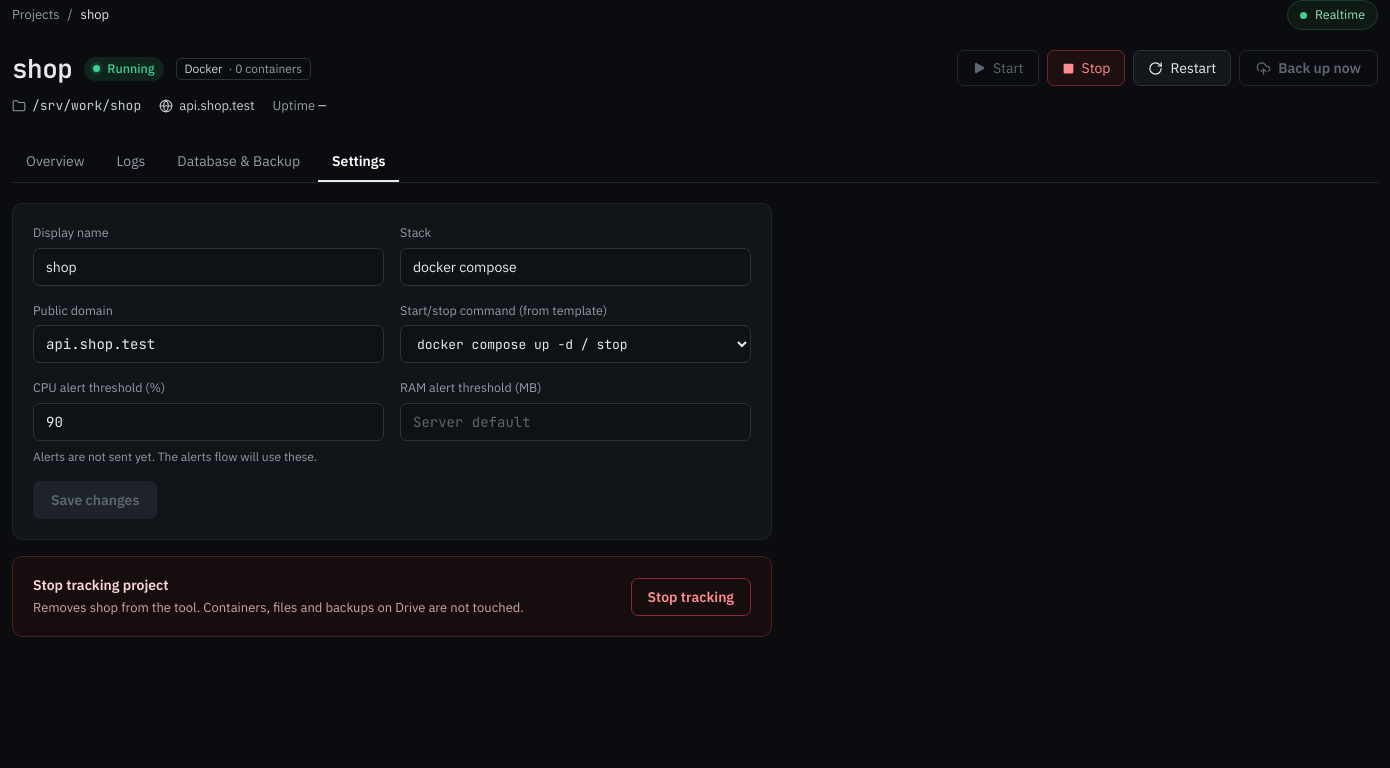
Test: settings tab › saves and toasts
This screenshot has width=1390, height=768.
Replace the text in the field labelled "Display name" with "shop-api" at (208, 266), box x1=33 y1=248 x2=384 y2=286
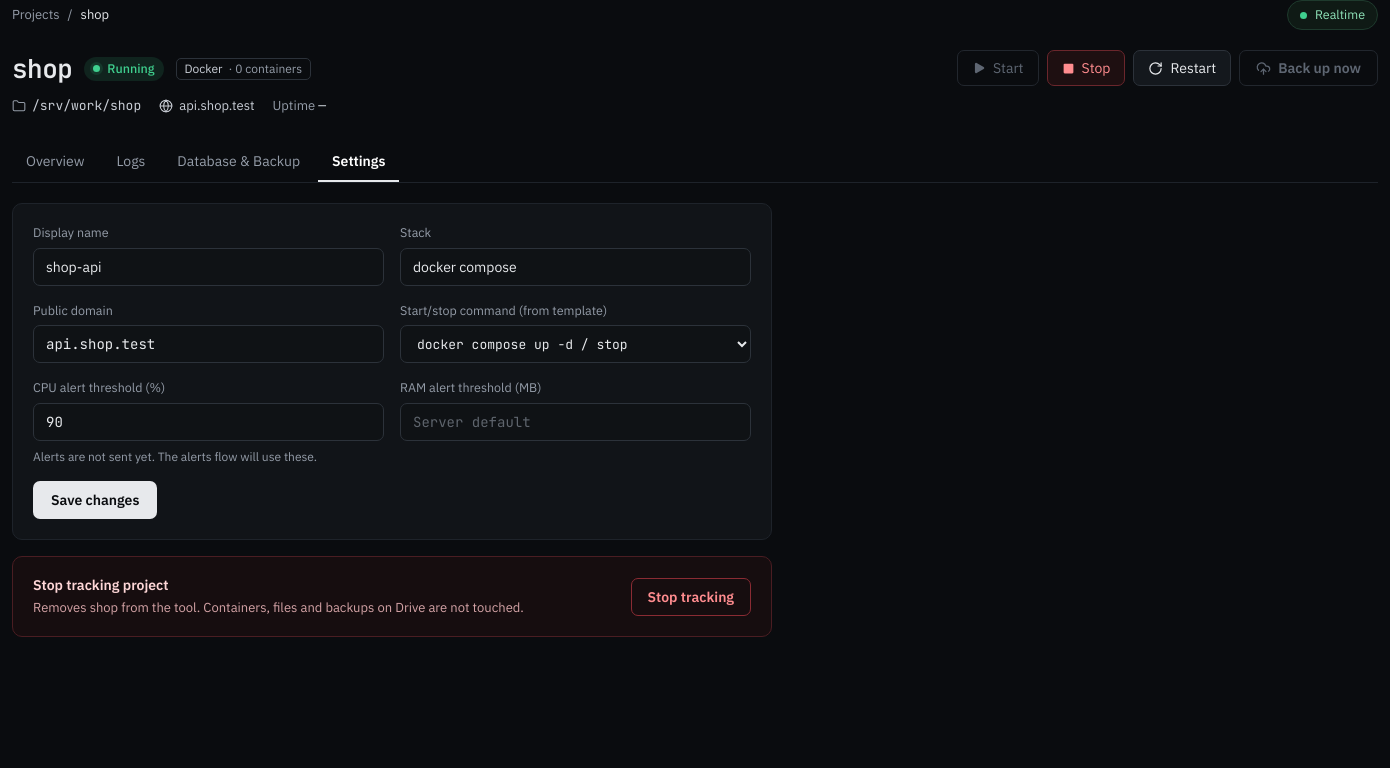
Replace the text in the field labelled "Public domain" with "shop.example.com" at (208, 344), box x1=33 y1=325 x2=384 y2=363
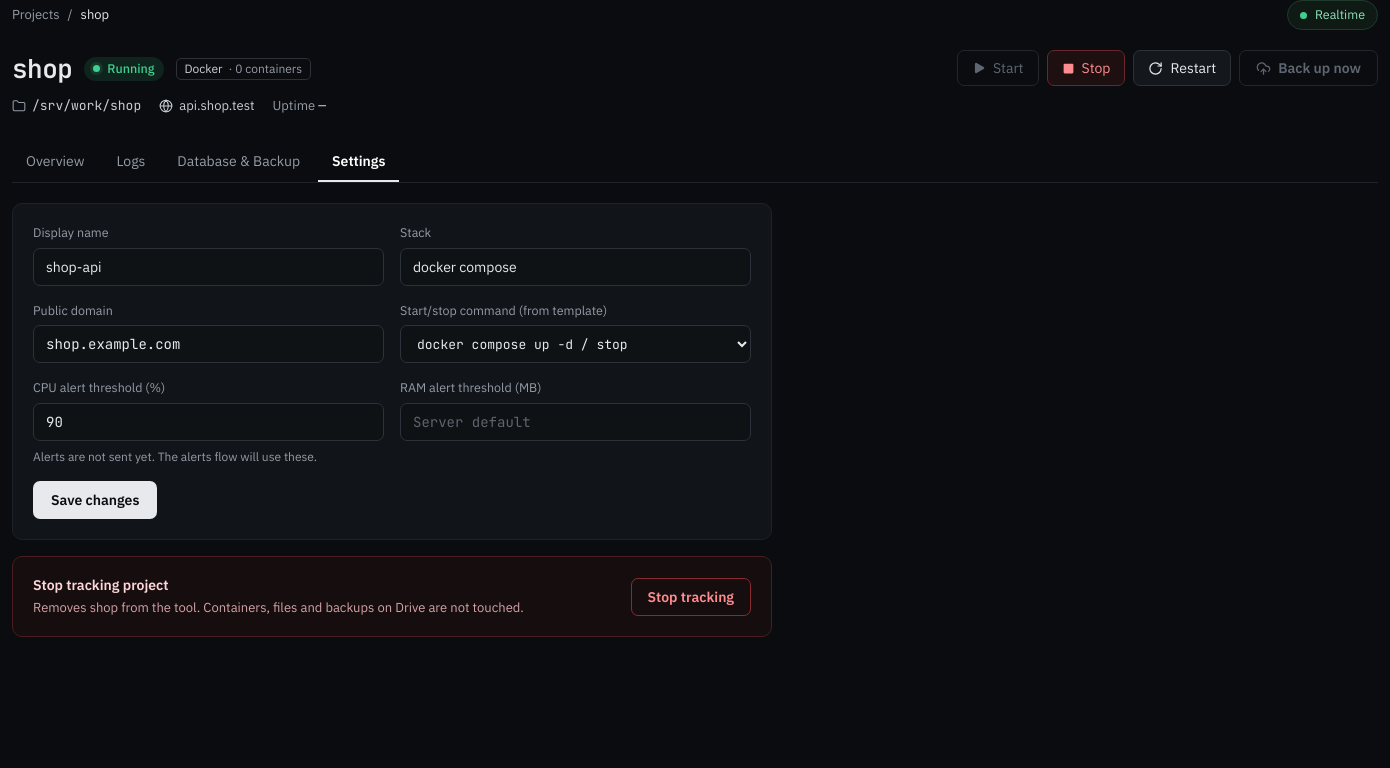
Select "docker compose up -d / down" in the dropdown labelled "Start/stop command (from template)" at (576, 344), box x1=400 y1=325 x2=751 y2=363
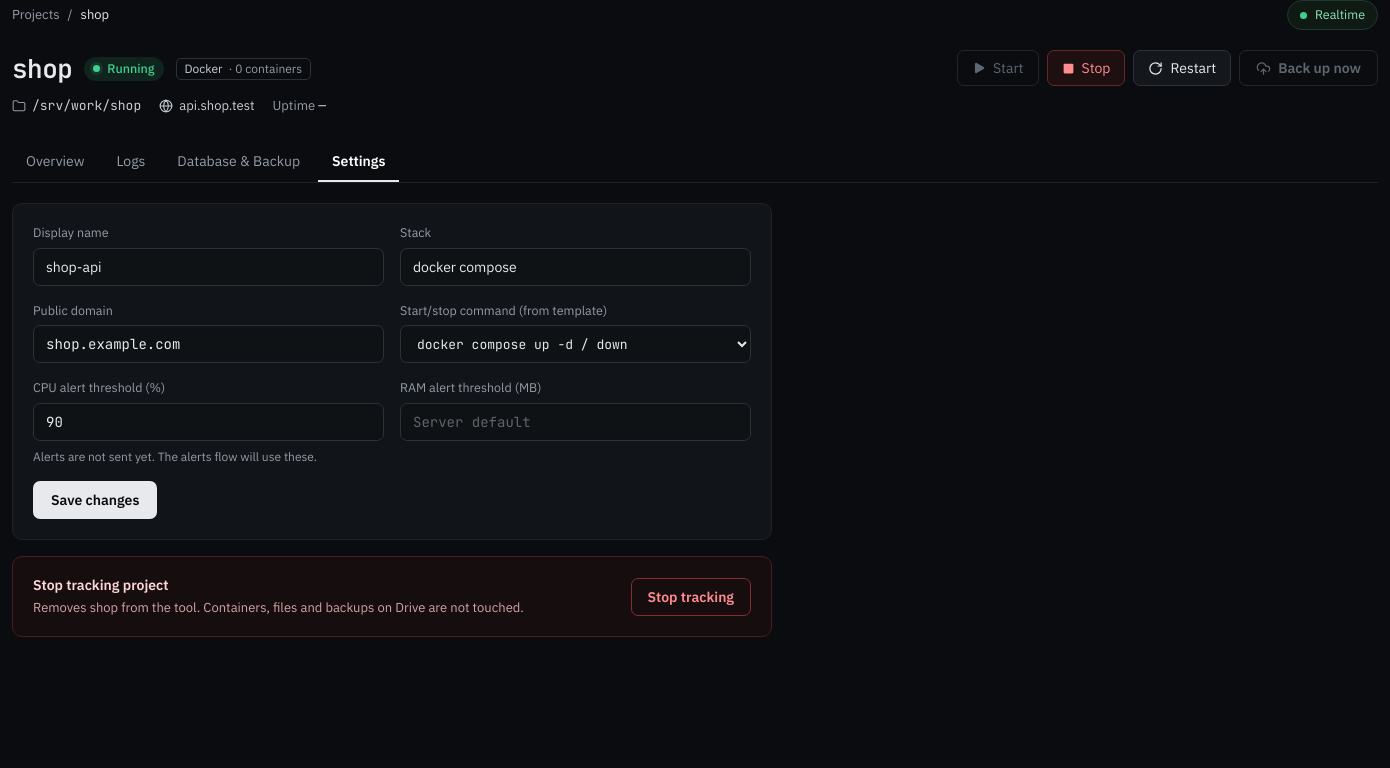
Clear the number field labelled "CPU alert threshold (%)" at (208, 422), box x1=33 y1=403 x2=384 y2=441
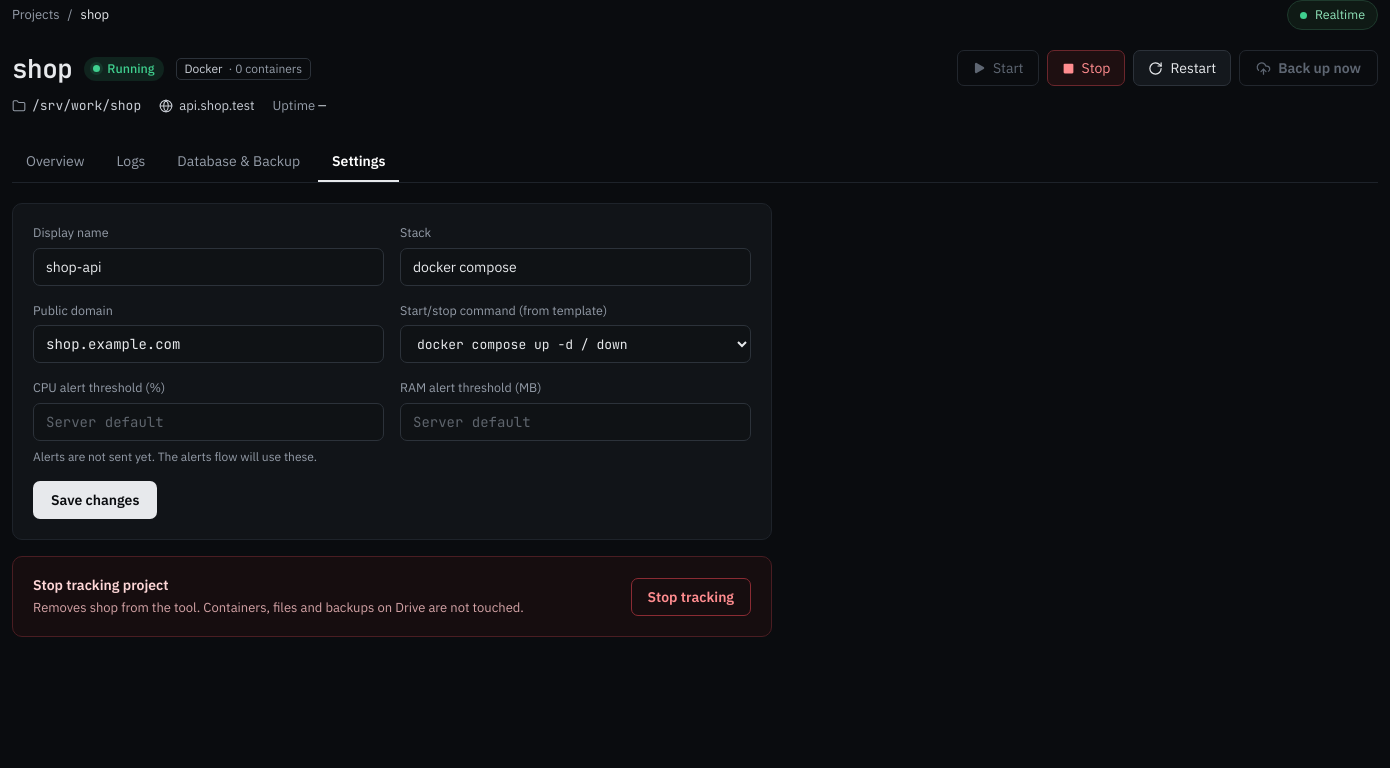
Type "2048" into the number field labelled "RAM alert threshold (MB)" at (576, 422), box x1=400 y1=403 x2=751 y2=441
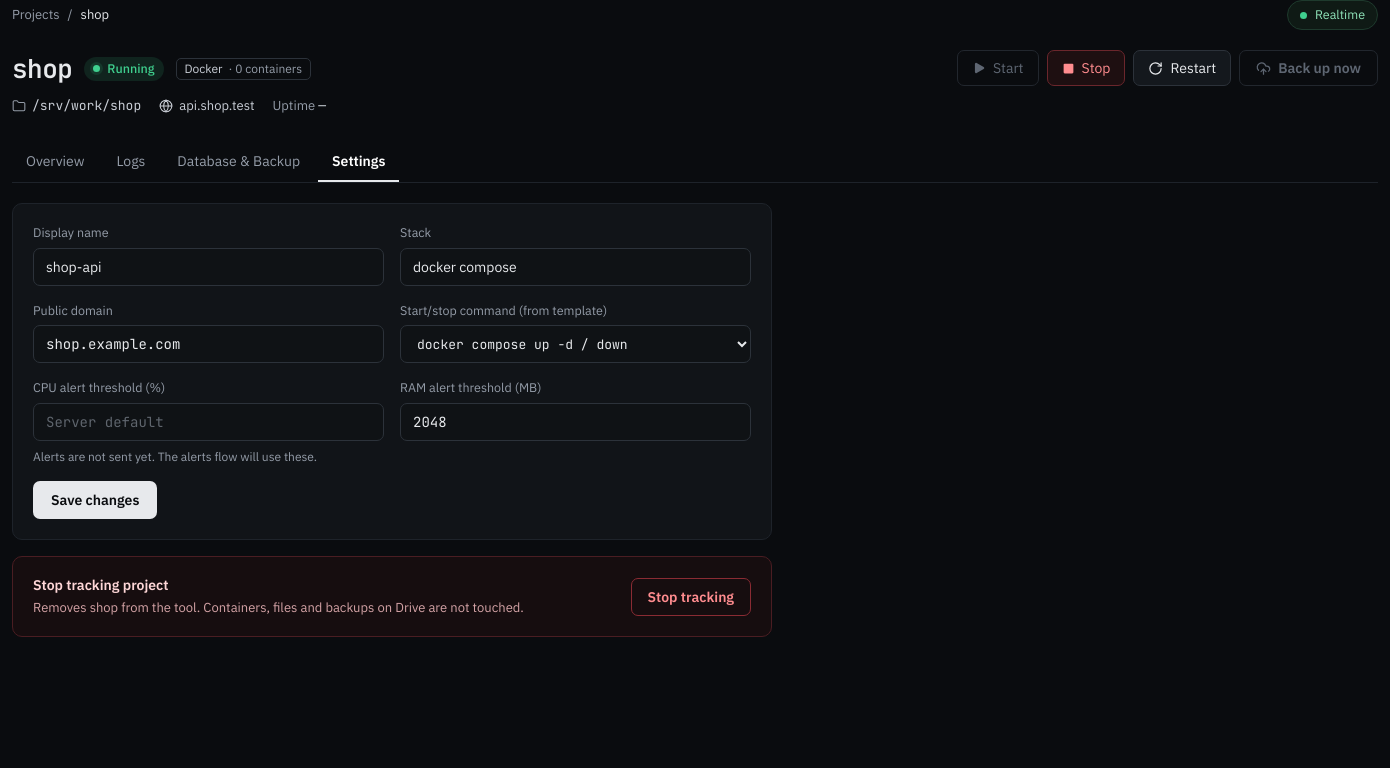
Click the button "Save changes" at (95, 500), box x1=33 y1=481 x2=157 y2=519
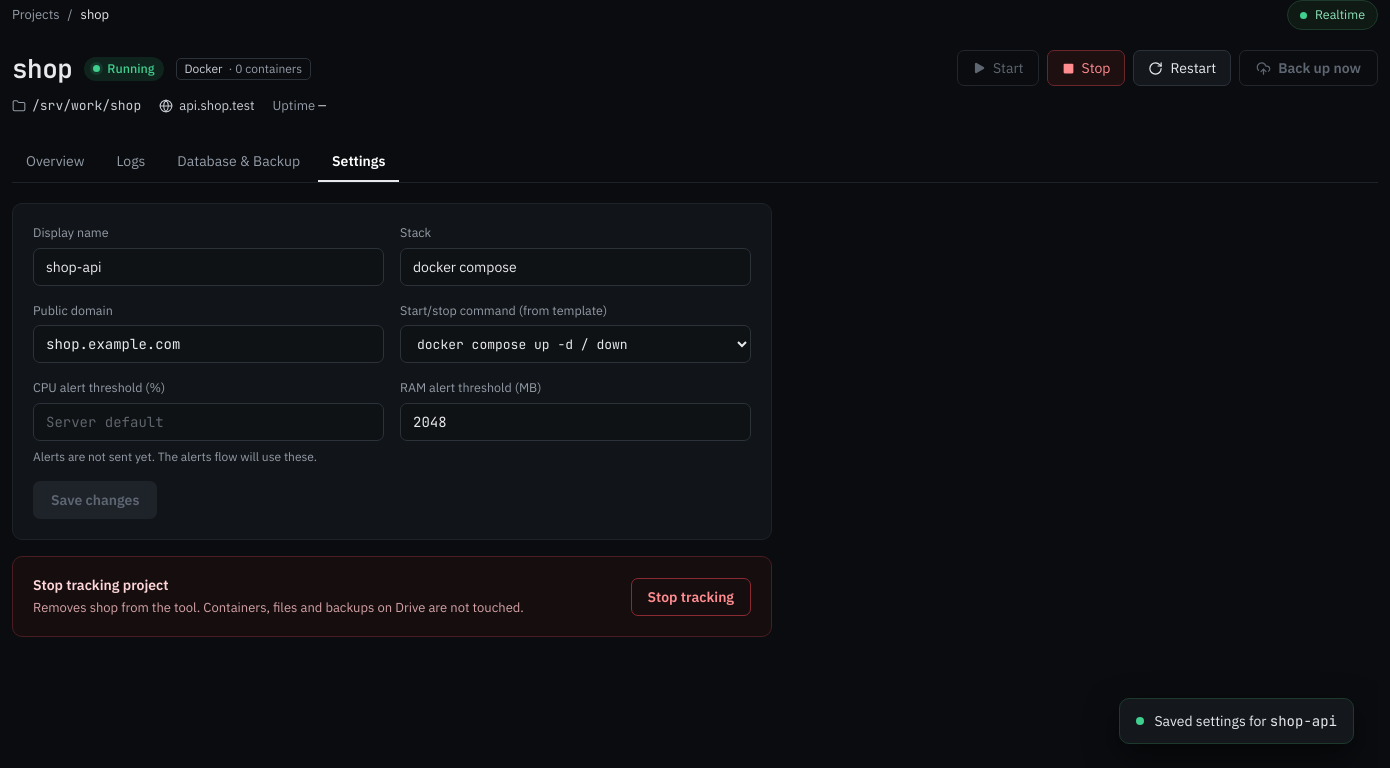
Check: the element with test id "toast-success" reads "Saved settings for shop-api", box x1=1120 y1=698 x2=1354 y2=744
Check: the button "Save changes" is disabled, box x1=33 y1=481 x2=157 y2=519
